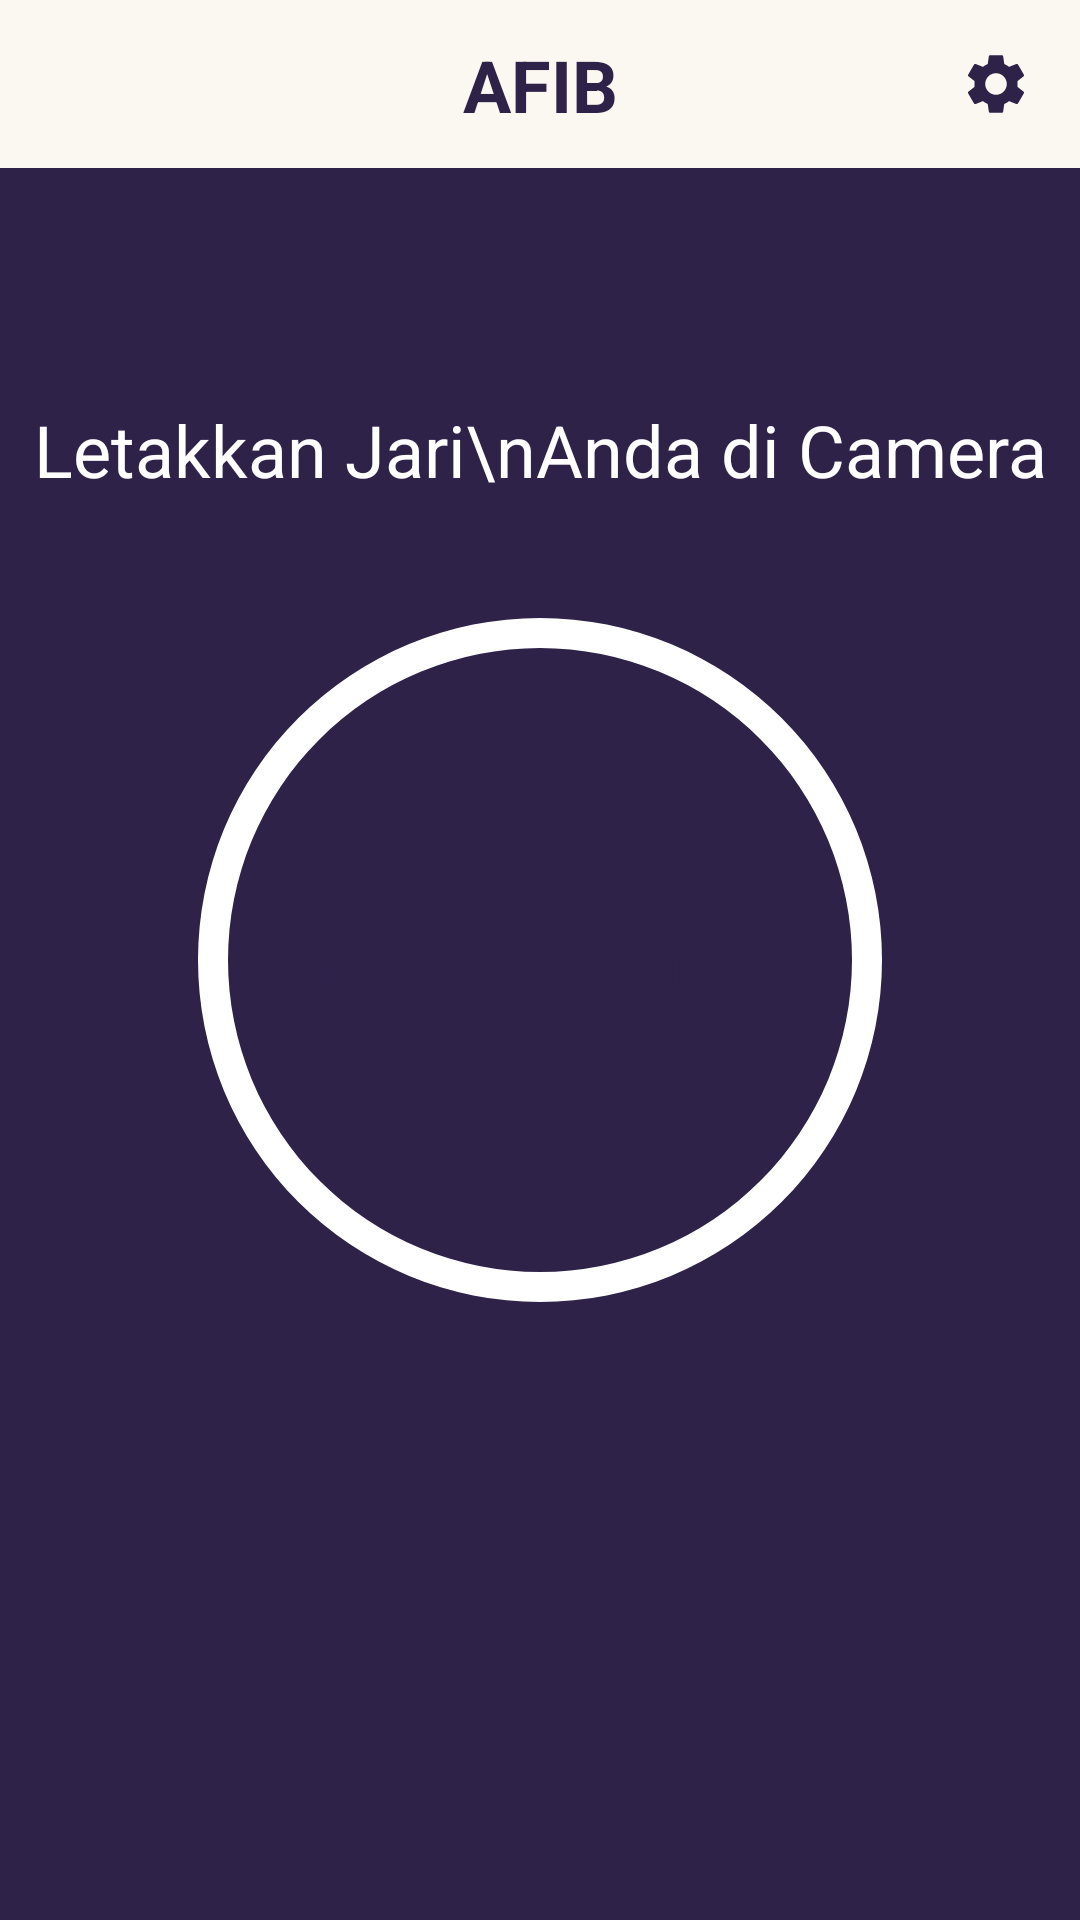

Icon bounding boxes for this 1080w x 1920h phone screenshot, format (x1, y1, x2, y2):
settings: (968, 55, 1024, 113)
